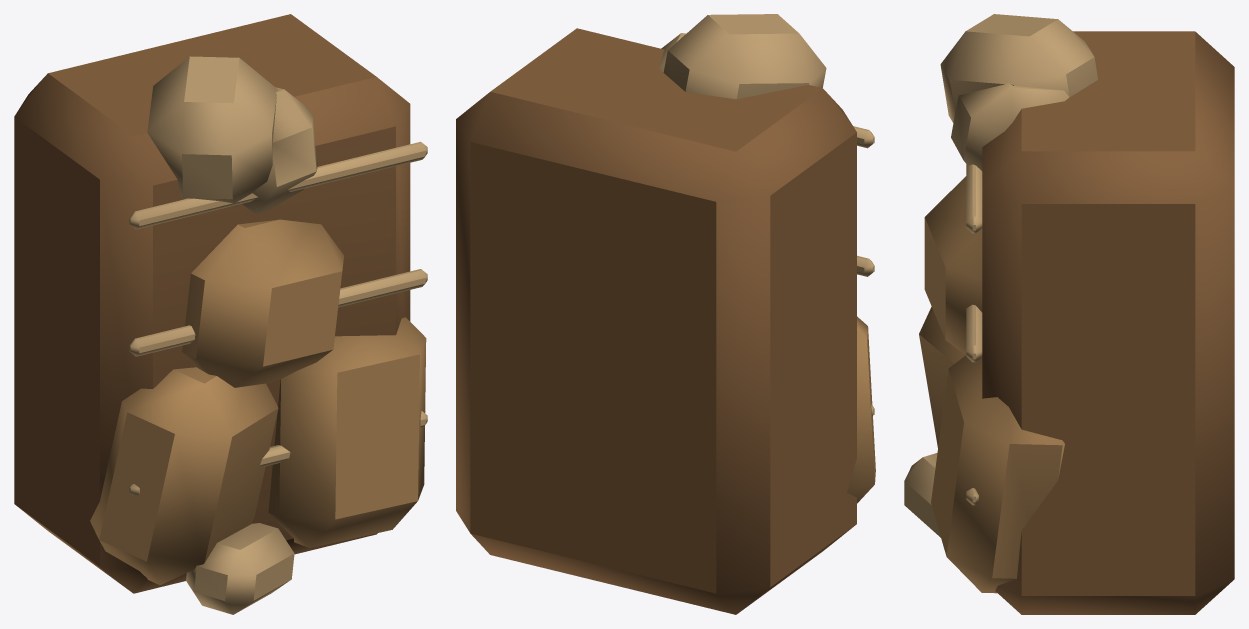
Rendered from cv_sand_wall_1.glb.
The picture shows the model from 3 angles, left to right: view 1: azimuth 30°, elevation 25°; view 2: azimuth 150°, elevation 25°; view 3: azimuth 270°, elevation 25°; orthographic projection.
Visible parts, largest first — view 1: body; view 2: body; view 3: body.
Boxes of the visible parts, bbox=[...] form: body: bbox=[14, 14, 427, 614]; body: bbox=[456, 14, 875, 614]; body: bbox=[904, 14, 1234, 614].
Bounding box in the file's own units: 2.44 × 3.62 × 2.09.
